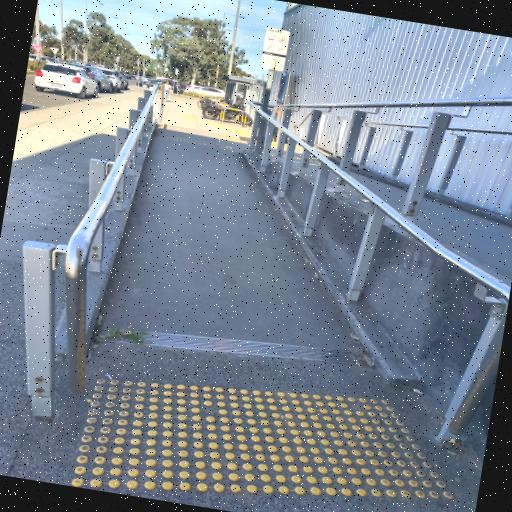handrail: (242, 102, 510, 444), (271, 96, 512, 252), (52, 83, 158, 400)
ramp: (105, 140, 362, 344)
tgsi: (73, 369, 454, 493), (160, 124, 243, 141), (185, 115, 249, 136), (164, 134, 231, 148)
